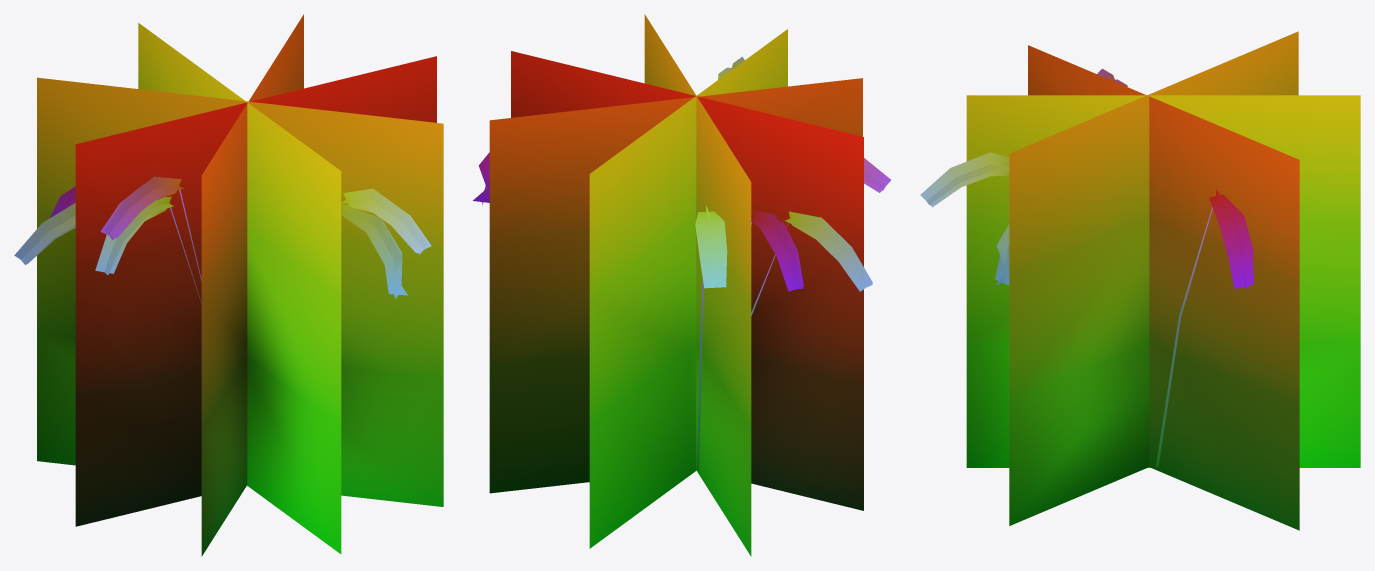
File: Rice_Ripe_C.fbx
3 renders of one model, left to right at view 1: azimuth 30°, elevation 25°; view 2: azimuth 150°, elevation 25°; view 3: azimuth 270°, elevation 25°, orthographic. The views are drawn at different scales.
Visible parts, largest first — view 1: Rice_Ripe_C_LOD0; view 2: Rice_Ripe_C_LOD0; view 3: Rice_Ripe_C_LOD0.
Boxes of the visible parts, x1,y1,x2,y2 form: Rice_Ripe_C_LOD0: [14, 14, 443, 556]; Rice_Ripe_C_LOD0: [473, 14, 890, 556]; Rice_Ripe_C_LOD0: [920, 31, 1360, 530].
Size of what is drawn, in the model's own units: 1.09 by 1.01 by 1.08.
